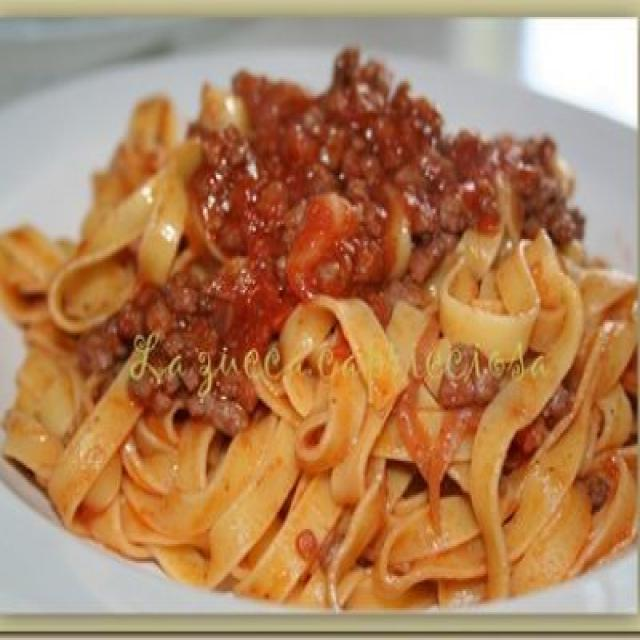Pasta al ragu: (32, 58, 635, 619)
